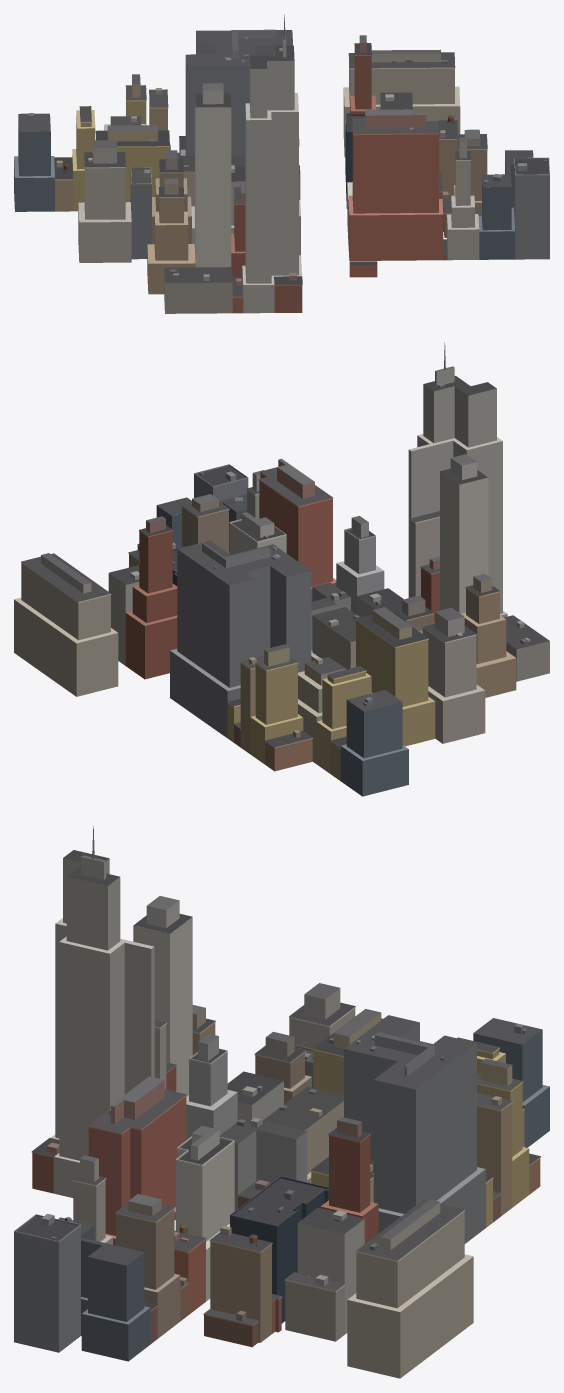
File: -2_-3.bld.glb
3 renders of one model, top to bottom at view 1: azimuth 30°, elevation 25°; view 2: azimuth 150°, elevation 25°; view 3: azimuth 270°, elevation 25°, orthographic. The views are drawn at different scales.
Visible parts, largest first — view 1: -2_-3; view 2: -2_-3; view 3: -2_-3.
Boxes of the visible parts, left/top/right/bottom form: -2_-3: left=14, top=14, right=549, bottom=313; -2_-3: left=14, top=342, right=549, bottom=796; -2_-3: left=14, top=825, right=549, bottom=1378.
Size of the model in its own units: 307 by 199 by 263.
